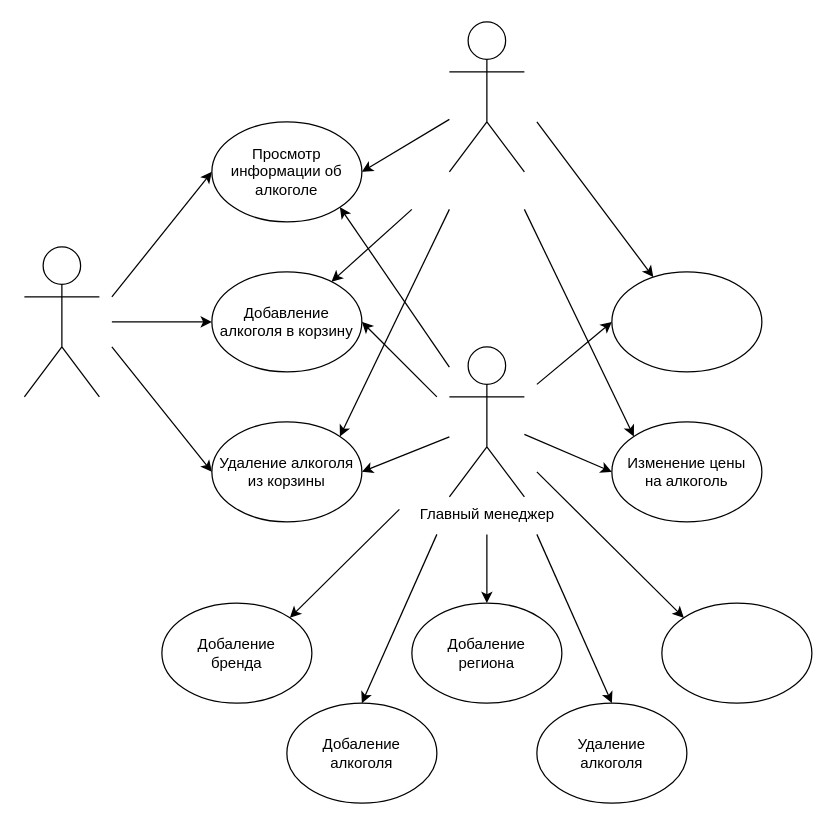
This 834x825 diagram has some shape labels left out. Each missing label, with the centre of its shape:
"Добаление завода" goes at point 736,652.
"Измение количества алкоголя на складе" goes at point 686,321.
"Менеджер продаж" goes at point 486,96.
"Покупатель" goes at point 61,321.
